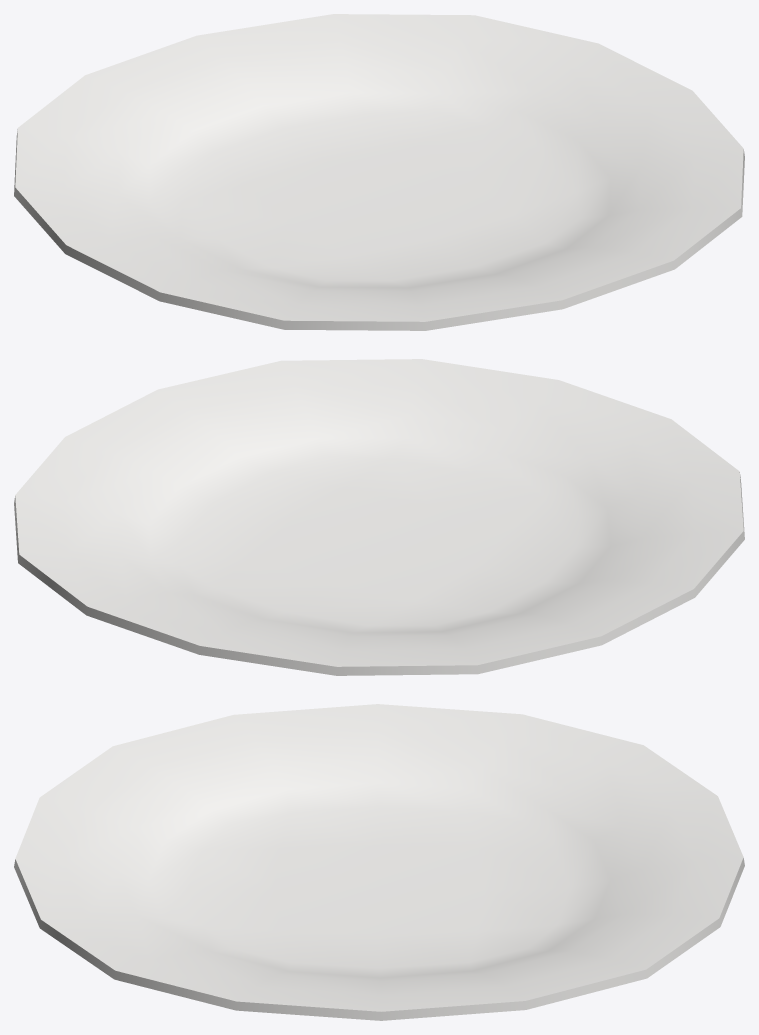
The model's file is Plate_2.glb.
3 renders of one model, top to bottom at view 1: azimuth 30°, elevation 25°; view 2: azimuth 150°, elevation 25°; view 3: azimuth 270°, elevation 25°, orthographic.
Parts seen in each view (by area): view 1: Plate_2; view 2: Plate_2; view 3: Plate_2.
Part boxes in pixels (x1,y1,x2,y2): Plate_2: (14, 14, 744, 330); Plate_2: (14, 359, 744, 675); Plate_2: (14, 704, 744, 1020).
Size of the model in its own units: 0.1787 by 0.0117 by 0.1787.
Materials: 1 (1 with a texture image).
